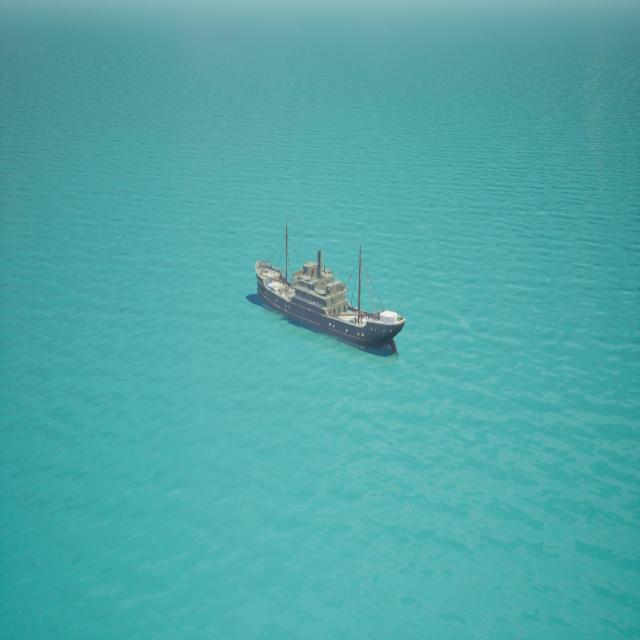fishing ship: (252, 223, 405, 357)
